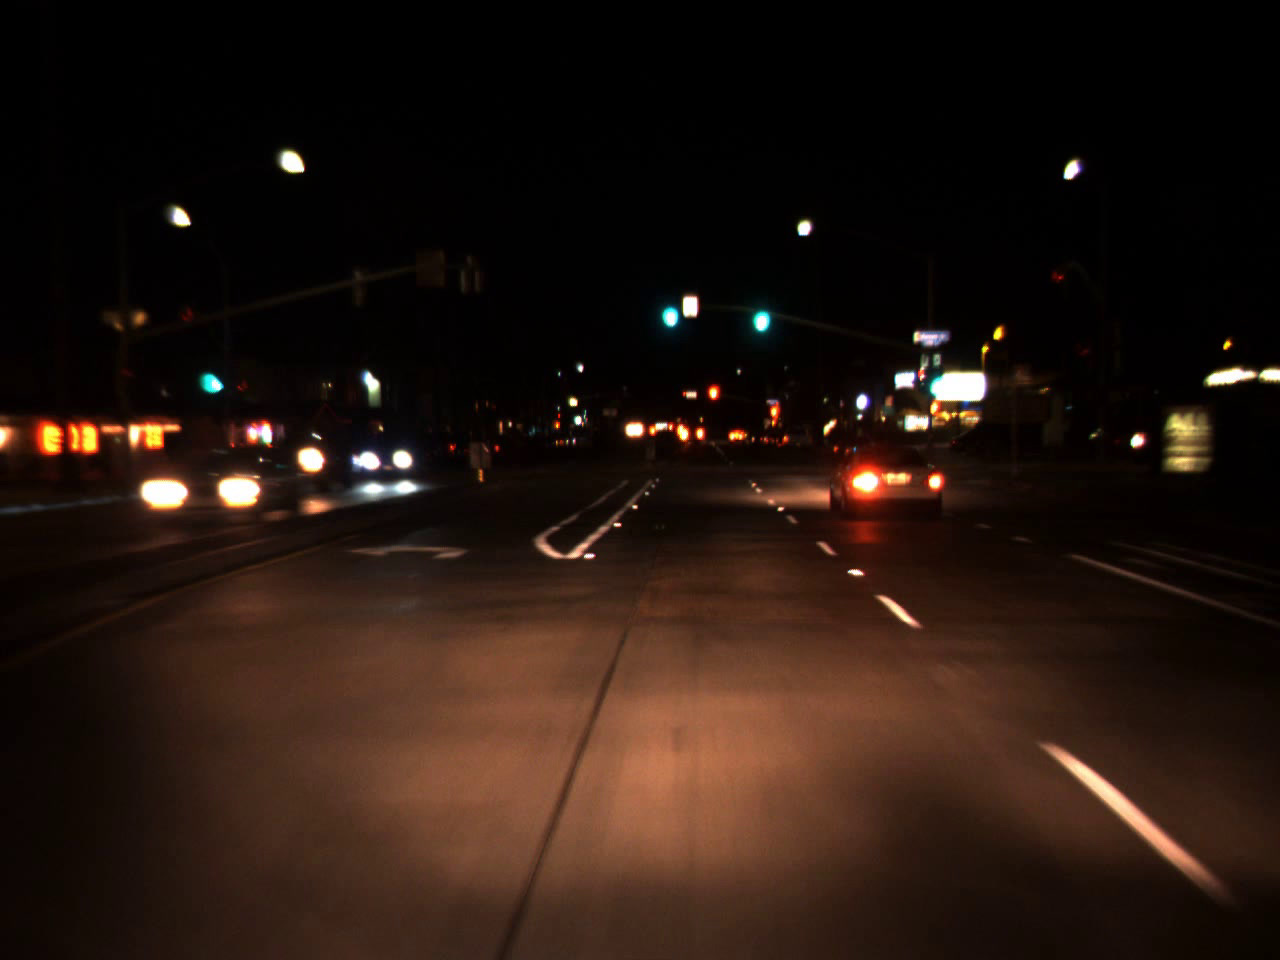go: (746, 283, 773, 340), (655, 281, 682, 335), (197, 349, 222, 400), (923, 355, 944, 403)
stop: (706, 382, 721, 419), (770, 406, 777, 427)
